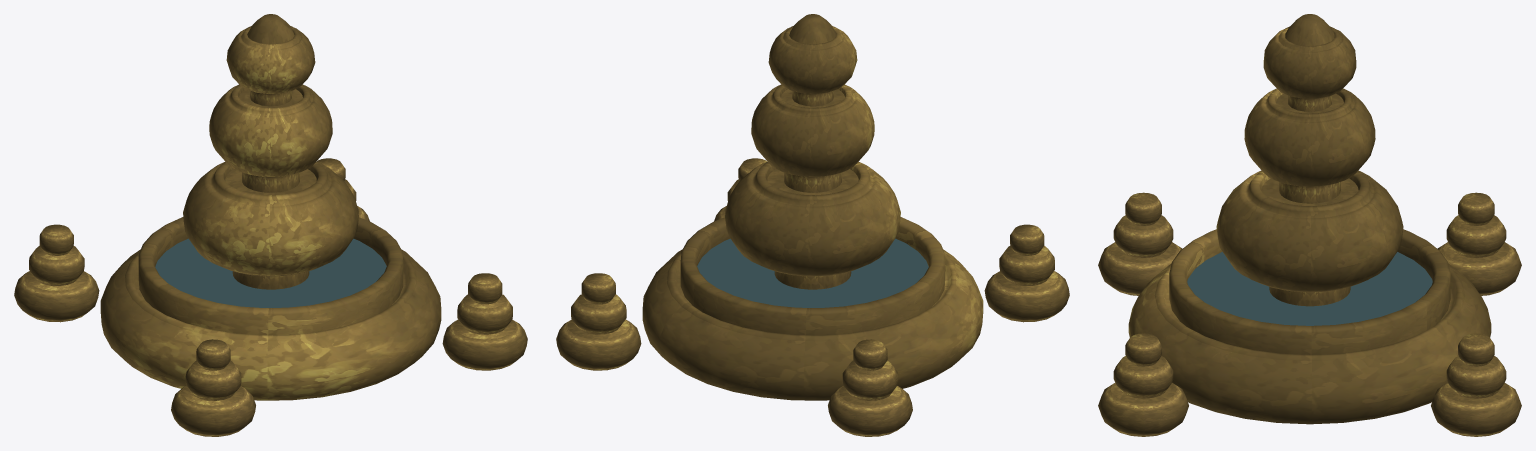
Rendered from DI_011_fountain.glb.
The picture shows the model from 3 angles, left to right: view 1: azimuth 30°, elevation 25°; view 2: azimuth 150°, elevation 25°; view 3: azimuth 270°, elevation 25°; orthographic projection. The views are drawn at different scales.
Visible parts, largest first — view 1: Fountain; view 2: Fountain; view 3: Fountain.
Boxes of the visible parts, x1,y1,x2,y2 form: Fountain: [14, 14, 527, 436]; Fountain: [556, 14, 1069, 436]; Fountain: [1098, 14, 1521, 436].
Bounding box in the file's own units: 1.95 × 1.7 × 1.95.
Materials: 2 (1 with a texture image).
